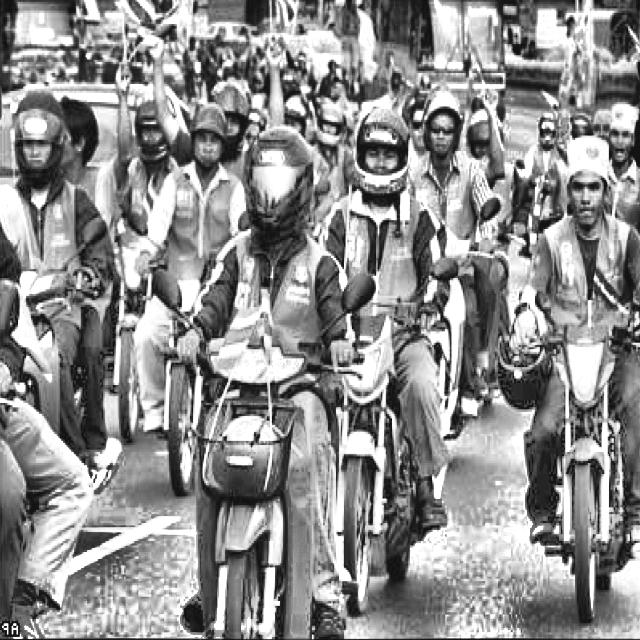Helmet: (243, 123, 317, 254), (349, 111, 412, 201), (11, 86, 67, 179), (421, 93, 463, 164), (184, 107, 222, 179), (213, 82, 251, 150), (137, 96, 170, 161)
